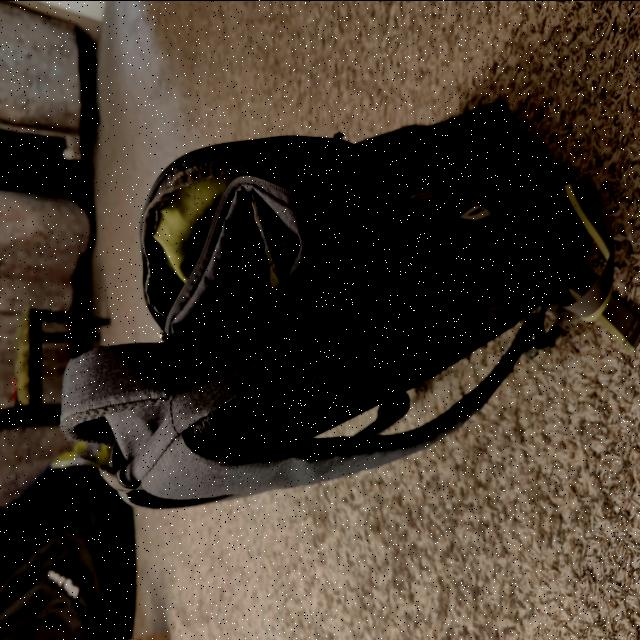bag: (66, 101, 564, 521)
